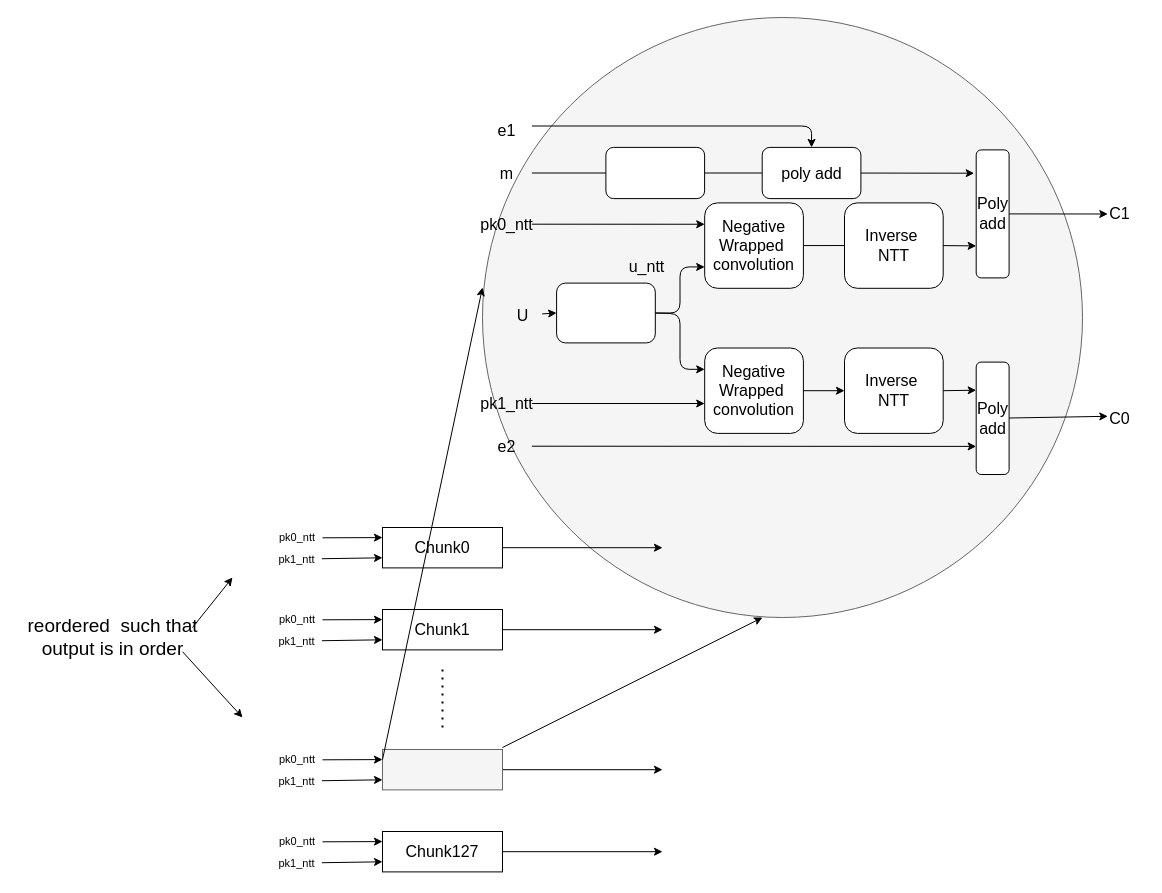
Image size: 1162x893. Some labels were removed from this diagram. The shapes that lost their labels are listed below. From the top down, each one's box as (x1, y1, x2, y2) in pixels, then its label:
(605, 146, 705, 199): scale by delta
(556, 282, 655, 343): NTT
(382, 748, 502, 790): Chunk126
